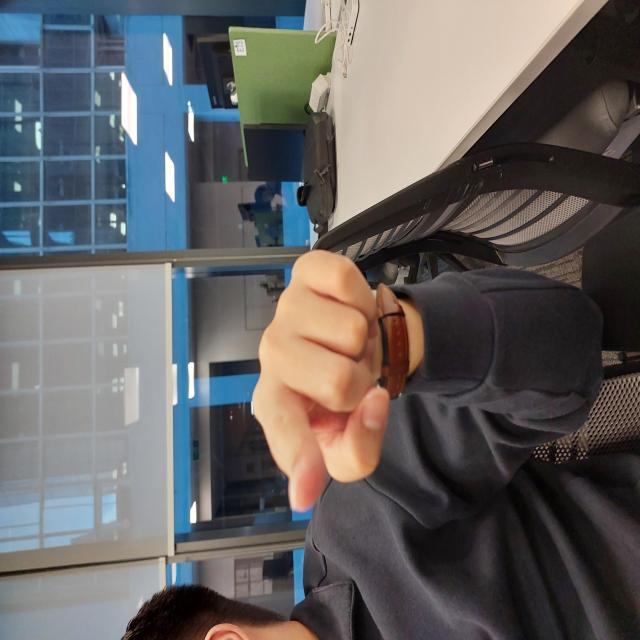Z: (128, 251, 389, 389)
